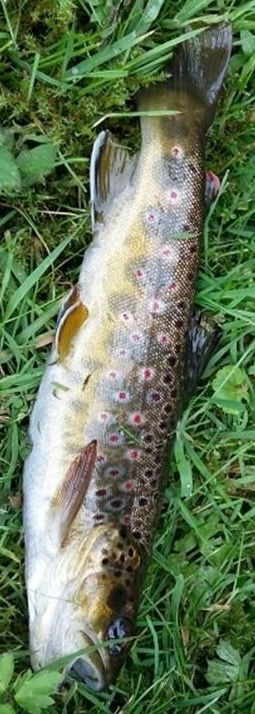Salmo trutta subsp. fario: (20, 20, 235, 694)
